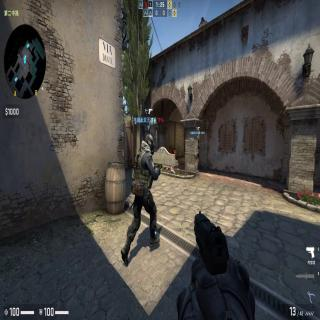CT-Body: (121, 134, 160, 267)
CT-Head: (145, 135, 155, 154)
